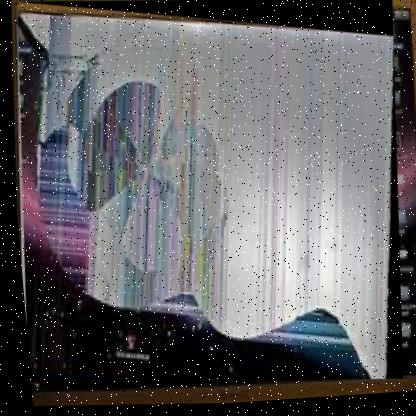crack: (0, 0, 415, 406)
lines: (2, 0, 193, 288)
